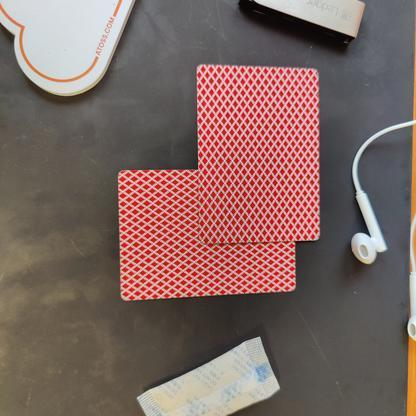card: (111, 162, 306, 308), (188, 55, 331, 249)
